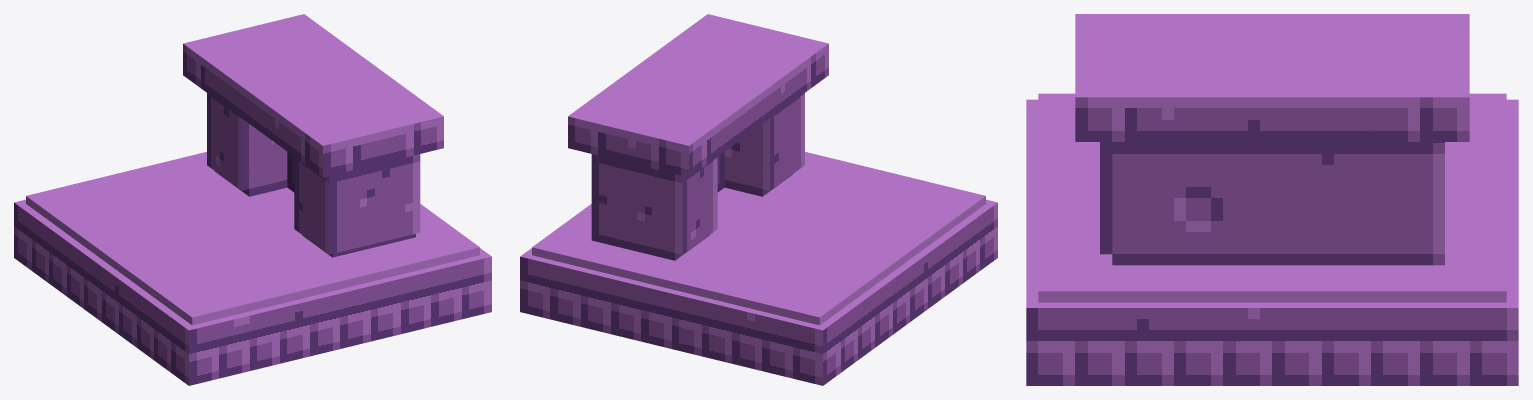
File: oldschool_deskao.fezao.glb
The picture shows the model from 3 angles, left to right: view 1: azimuth 30°, elevation 25°; view 2: azimuth 150°, elevation 25°; view 3: azimuth 270°, elevation 25°; orthographic projection. The views are drawn at different scales.
Parts seen in each view (by area): view 1: OLDSCHOOL_DESKAO; view 2: OLDSCHOOL_DESKAO; view 3: OLDSCHOOL_DESKAO.
Boxes of the visible parts, x1,y1,x2,y2 form: OLDSCHOOL_DESKAO: [14, 14, 491, 385]; OLDSCHOOL_DESKAO: [520, 14, 997, 385]; OLDSCHOOL_DESKAO: [1026, 14, 1518, 385].
Bounding box in the file's own units: 2.5 × 1.5 × 2.5.
1 material, 1 textured.
